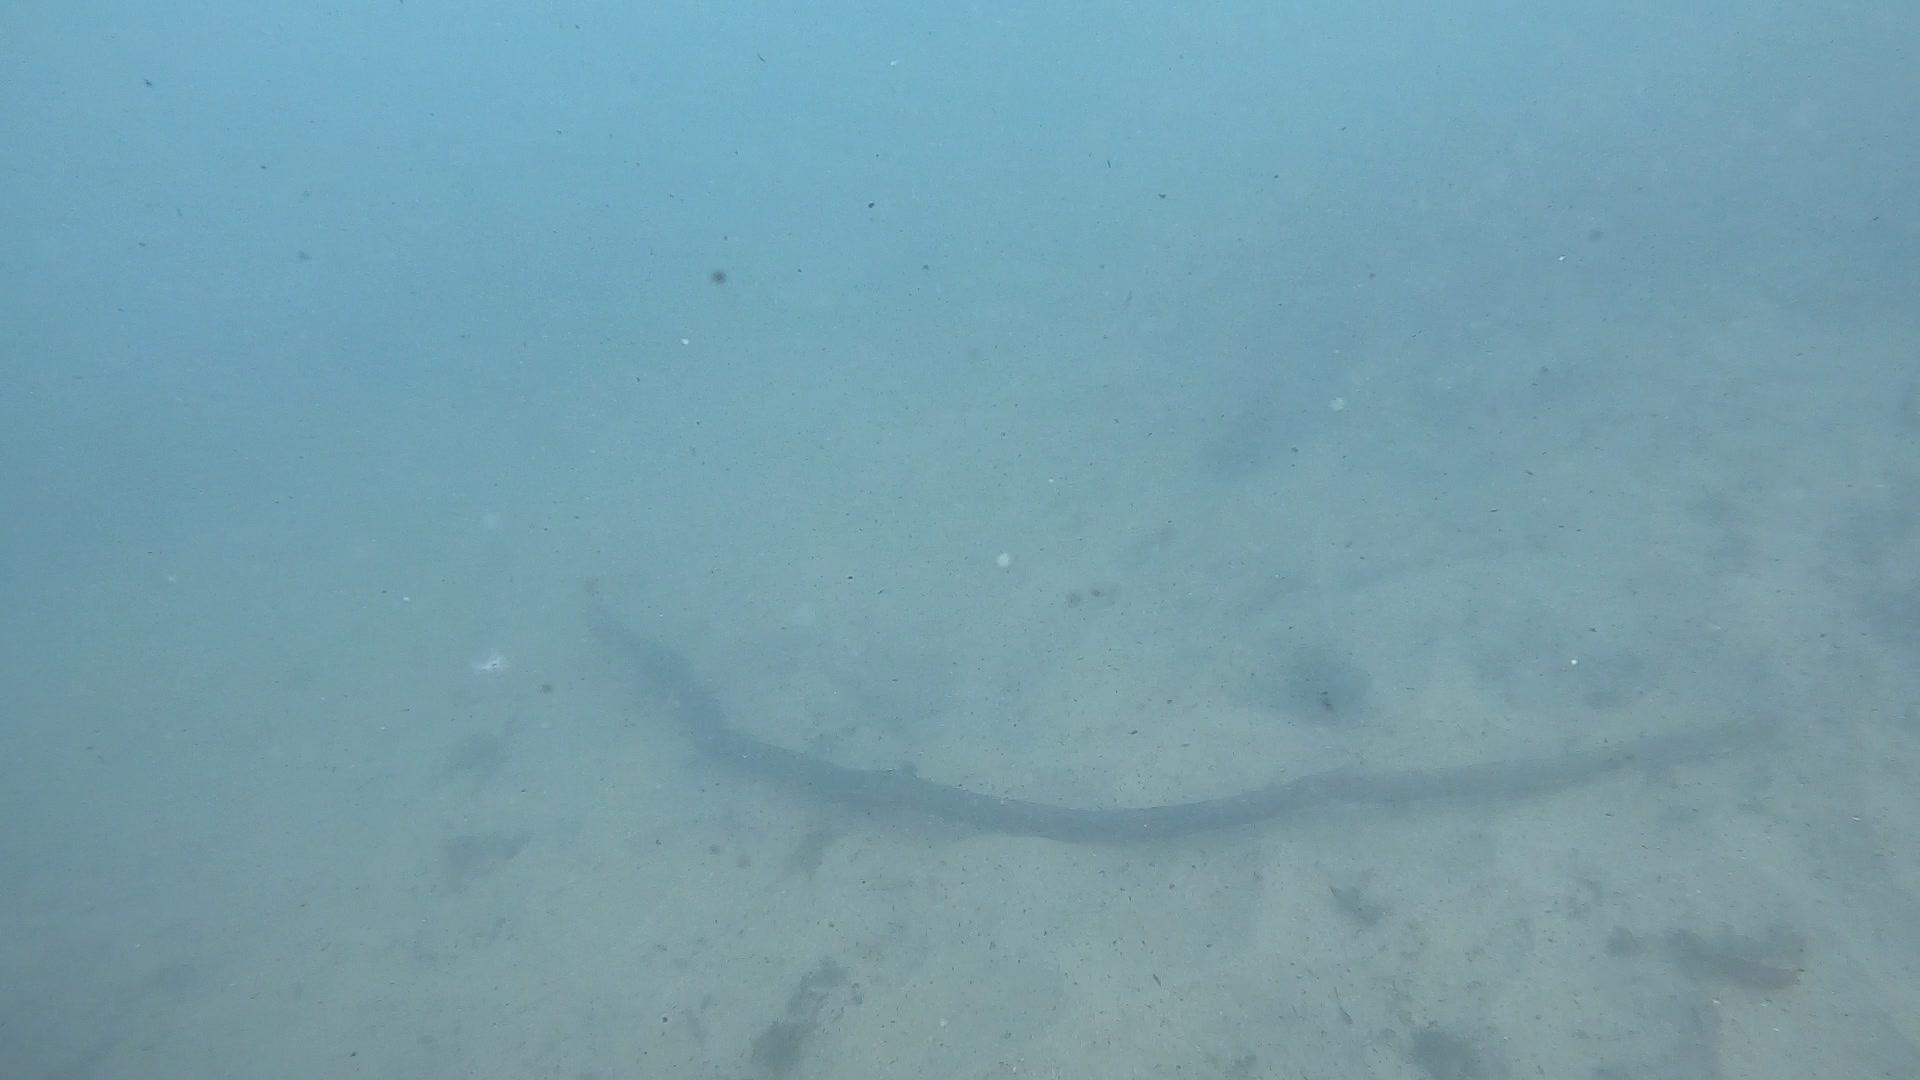wood: (582, 585, 1780, 844)
